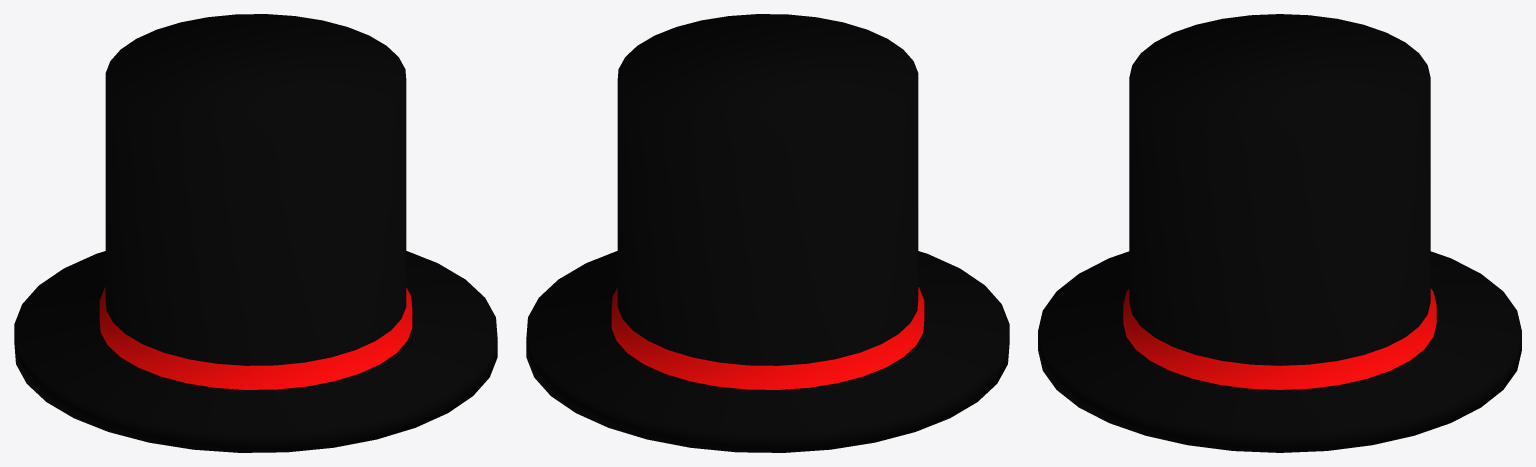
File: VRTopHat.fbx
The picture shows the model from 3 angles, left to right: view 1: azimuth 30°, elevation 25°; view 2: azimuth 150°, elevation 25°; view 3: azimuth 270°, elevation 25°; orthographic projection.
Visible parts, largest first — view 1: Cylinder; view 2: Cylinder; view 3: Cylinder.
Boxes of the visible parts, x1=… form: Cylinder: x1=14, y1=14, x2=497, y2=452; Cylinder: x1=526, y1=14, x2=1009, y2=452; Cylinder: x1=1038, y1=14, x2=1521, y2=452.
Size of the model in its own units: 321 by 200 by 321.
